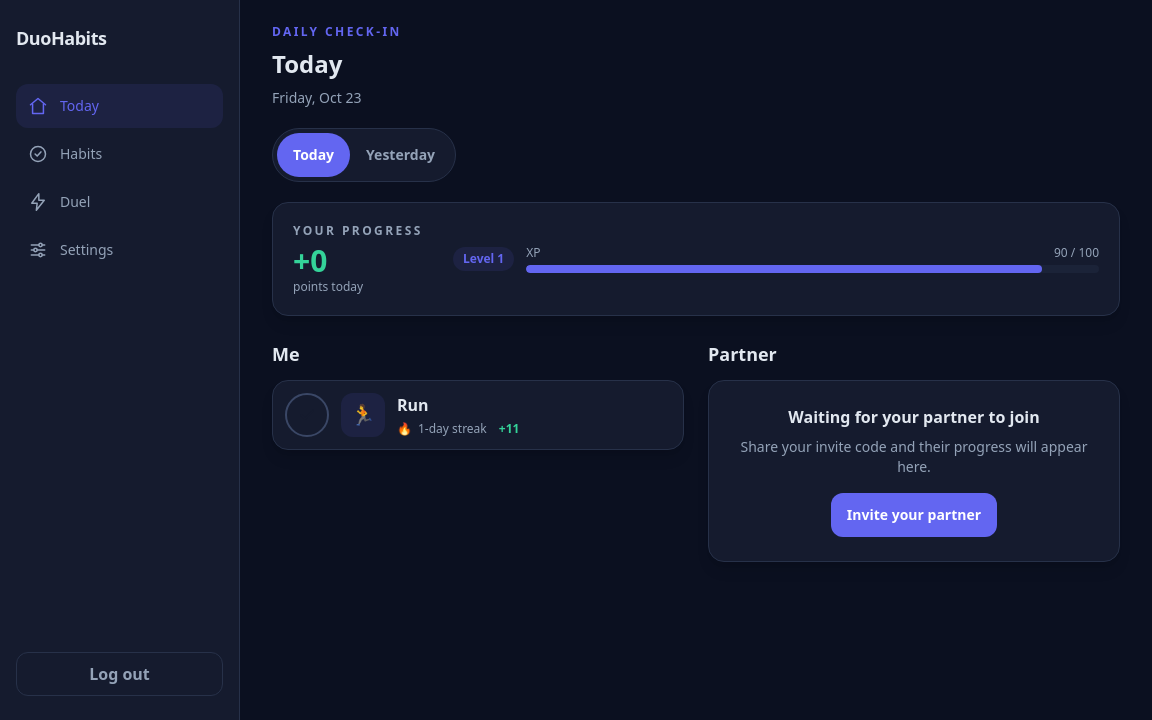
it: TodayPage › rolls back when the server rejects a duplicate check-in with 409
Expected: the text "Run" is shown, [397, 394, 429, 416]
Click the button with aria-label "Mark Run done for today": point(307, 415) [272, 380, 684, 450]
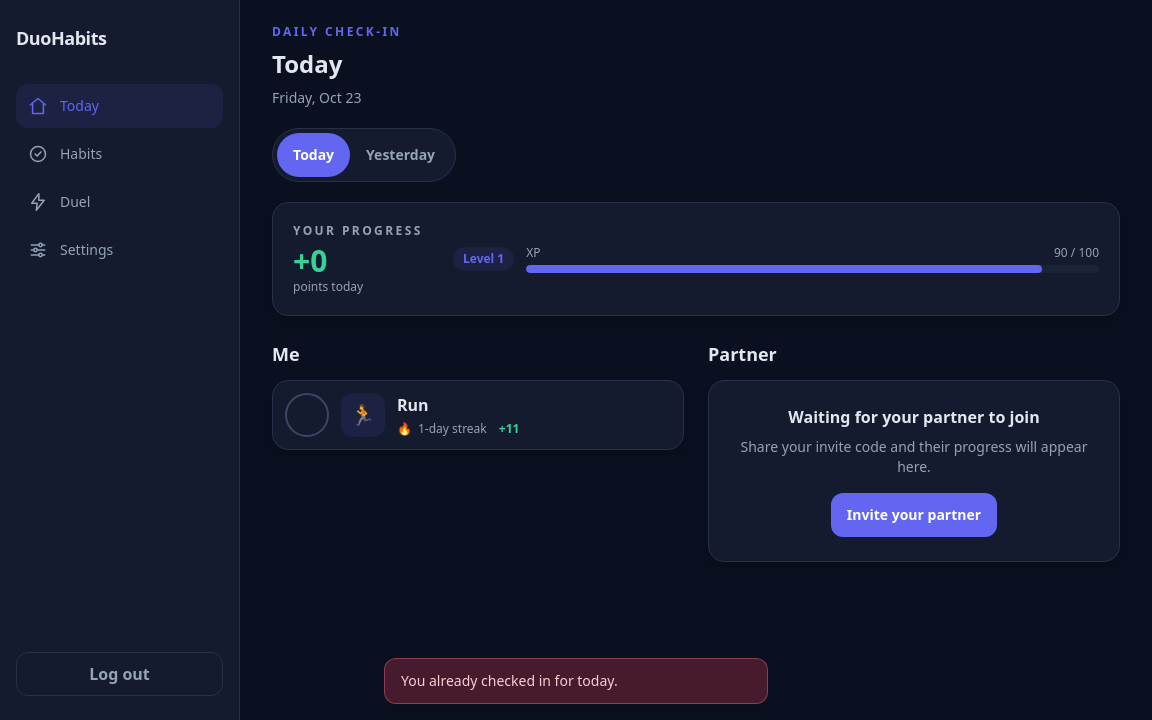
Result: the text "You already checked in for today." is shown at [384, 658, 768, 704]
